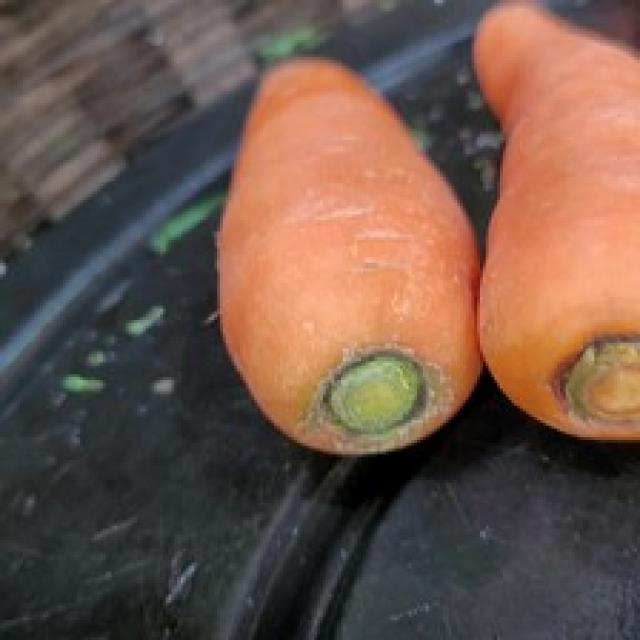Fresh_Carrot: (224, 50, 502, 462), (470, 0, 640, 440)
